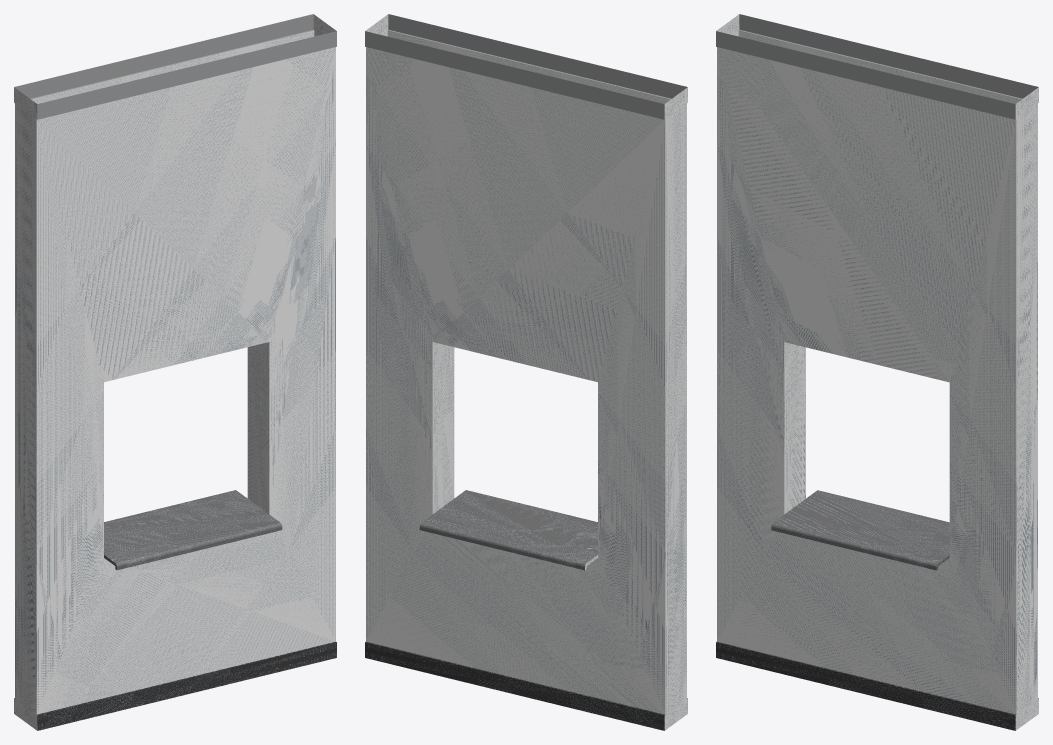
Rendered from BlockWall_Sluise_ds_plinth[200x400x025]_112x110x[100].dae.
3 views of the same model, side by side, from view 1: azimuth 30°, elevation 25°; view 2: azimuth 150°, elevation 25°; view 3: azimuth 330°, elevation 25° (orthographic).
Parts seen in each view (by area): view 1: group_0 (×6); view 2: group_0 (×6); view 3: group_0 (×6).
Part boxes in pixels (box(x1,y1,x2,y2)): group_0 (×6): box(14, 14, 336, 730); group_0 (×6): box(365, 14, 687, 730); group_0 (×6): box(716, 14, 1038, 730).
Bounding box in the file's own units: 78.74 × 21.65 × 157.
